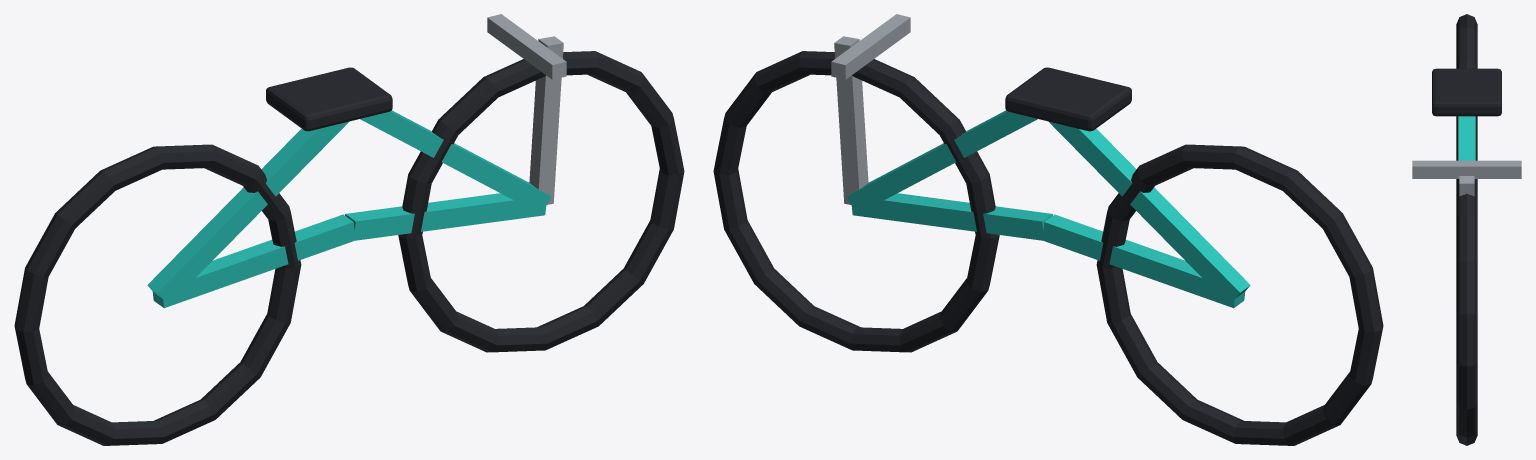
File: bicycle.glb
3 views of the same model, side by side, from view 1: azimuth 30°, elevation 25°; view 2: azimuth 150°, elevation 25°; view 3: azimuth 270°, elevation 25° (orthographic). The views are drawn at different scales.
Visible parts, largest first — view 1: BicycleWheel.001, BicycleWheel, Frame.002, Seat, Frame, Frame.001, Frame.003, Fork, Handle; view 2: BicycleWheel.001, BicycleWheel, Frame.002, Seat, Frame, Frame.001, Frame.003, Fork, Handle; view 3: BicycleWheel, Seat, Handle, BicycleWheel.001, Frame.003, Fork.
Part boxes in pixels (box(x1,y1,x2,y2)): BicycleWheel.001: box(14, 144, 301, 445); BicycleWheel: box(398, 51, 684, 352); Frame.002: box(147, 121, 349, 304); Seat: box(266, 67, 392, 131); Frame: box(152, 214, 355, 308); Frame.001: box(345, 193, 546, 240); Frame.003: box(360, 110, 551, 214); Fork: box(529, 36, 563, 204); Handle: box(487, 14, 566, 79); BicycleWheel.001: box(1096, 144, 1383, 445); BicycleWheel: box(713, 51, 999, 352); Frame.002: box(1048, 121, 1250, 298); Seat: box(1005, 67, 1131, 131); Frame: box(1043, 214, 1245, 308); Frame.001: box(850, 193, 1052, 240); Frame.003: box(846, 110, 1037, 204); Fork: box(834, 36, 868, 204); Handle: box(831, 14, 910, 79); BicycleWheel: box(1456, 179, 1477, 445); Seat: box(1432, 68, 1501, 116); Handle: box(1412, 160, 1521, 178); BicycleWheel.001: box(1456, 14, 1477, 180); Frame.003: box(1458, 116, 1475, 160); Fork: box(1459, 176, 1474, 196).
Bounding box in the file's own units: 3.31 × 1.49 × 0.56.
